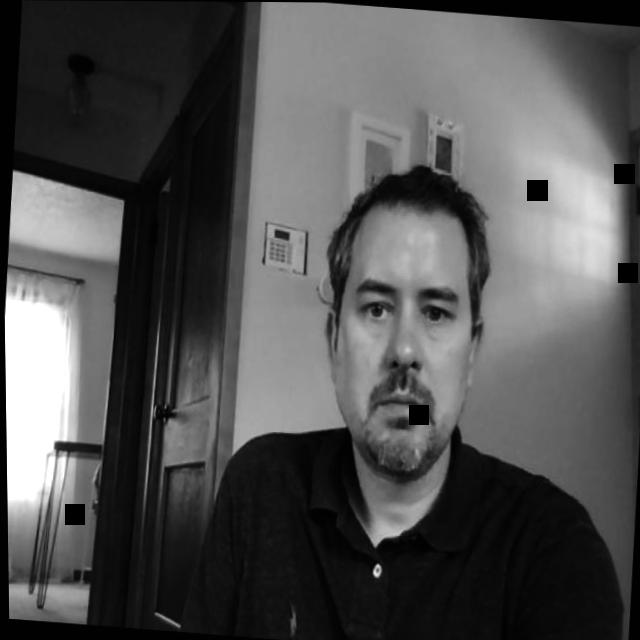NO-Mask: (311, 163, 498, 486)
